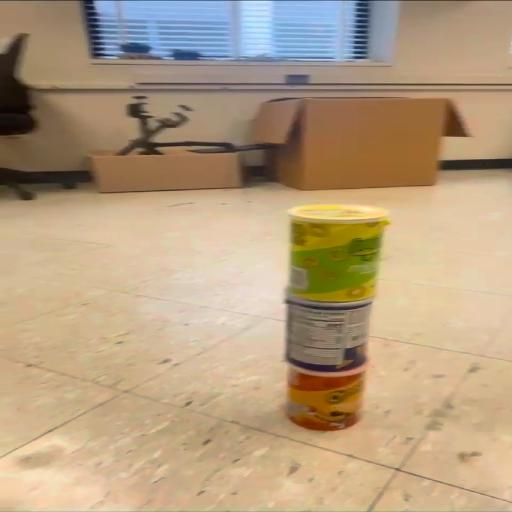pringle can: (286, 202, 374, 298), (283, 296, 372, 370), (285, 368, 368, 430)
